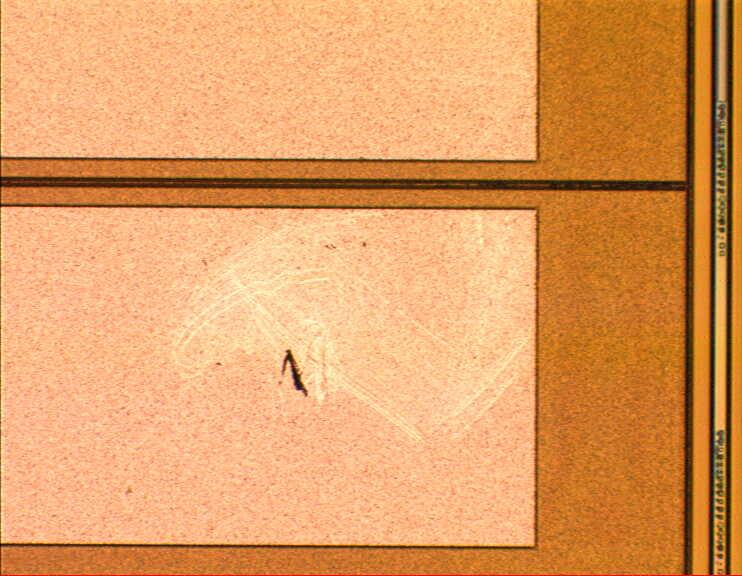SCRATCH: (163, 208, 544, 453)
